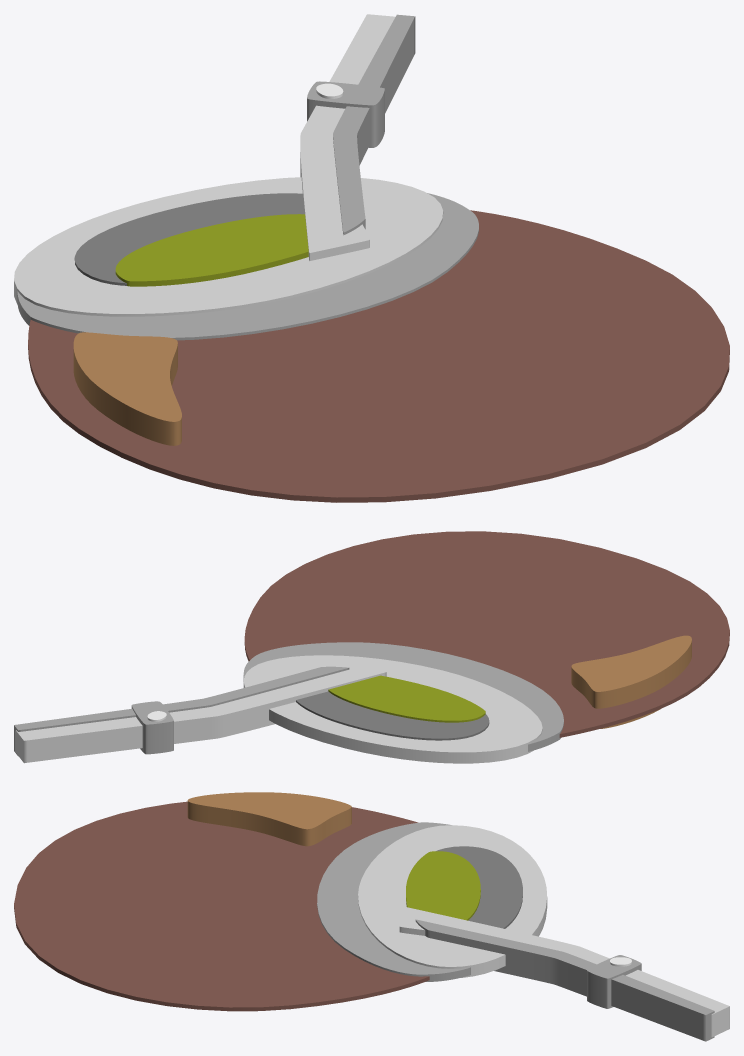
Rendered from emoji_u1f9c9.glb.
The picture shows the model from 3 angles, top to bottom: view 1: azimuth 30°, elevation 25°; view 2: azimuth 150°, elevation 25°; view 3: azimuth 270°, elevation 25°; orthographic projection. The views are drawn at different scales.
Parts seen in each view (by area): view 1: emoji_u1f9c9; view 2: emoji_u1f9c9; view 3: emoji_u1f9c9.
Part boxes in pixels (x1,y1,x2,y2): emoji_u1f9c9: (14, 14, 729, 502); emoji_u1f9c9: (14, 531, 729, 763); emoji_u1f9c9: (14, 792, 729, 1041).
Size of the model in its own units: 0.0259 by 0.002 by 0.0342.
